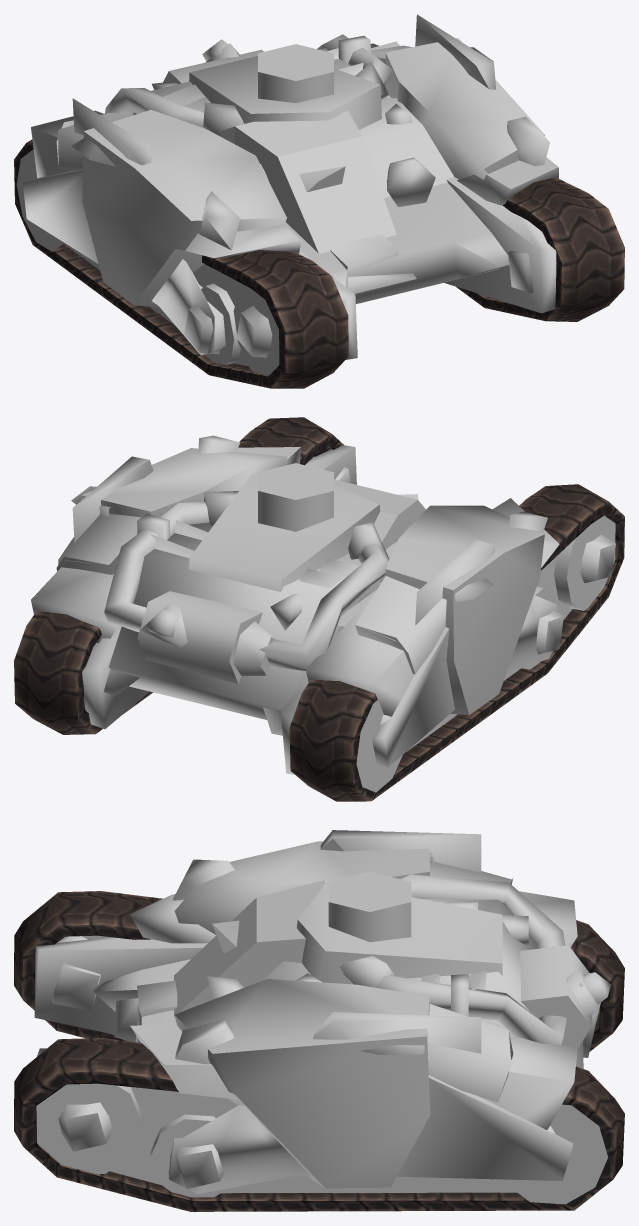
The model's file is Chassis_Tank_Lvl1.3.fbx.
The picture shows the model from 3 angles, top to bottom: view 1: azimuth 30°, elevation 25°; view 2: azimuth 150°, elevation 25°; view 3: azimuth 270°, elevation 25°; orthographic projection. The views are drawn at different scales.
Visible parts, largest first — view 1: Body_Geom, Tracks_R_Geom, Tracks_L_Geom, Wheel_R_1_Geom, Wheel_R_2_Geom, Wheel_R_3_Geom; view 2: Body_Geom, Tracks_R_Geom, Tracks_L_Geom, Wheel_R_1_Geom, Wheel_R_3_Geom; view 3: Body_Geom, Tracks_L_Geom, Tracks_R_Geom, Wheel_L_1_Geom, Wheel_L_3_Geom, Wheel_L_2_Geom.
Boxes of the visible parts, x1=… form: Body_Geom: x1=22, y1=14, x2=558, y2=366; Tracks_R_Geom: x1=14, y1=139, x2=348, y2=388; Tracks_L_Geom: x1=456, y1=177, x2=624, y2=321; Wheel_R_1_Geom: x1=233, y1=285, x2=279, y2=375; Wheel_R_2_Geom: x1=201, y1=283, x2=240, y2=364; Wheel_R_3_Geom: x1=16, y1=149, x2=63, y2=251; Body_Geom: x1=31, y1=435, x2=615, y2=774; Tracks_R_Geom: x1=289, y1=484, x2=624, y2=801; Tracks_L_Geom: x1=14, y1=417, x2=343, y2=734; Wheel_R_1_Geom: x1=554, y1=516, x2=615, y2=610; Wheel_R_3_Geom: x1=356, y1=699, x2=402, y2=792; Body_Geom: x1=34, y1=830, x2=610, y2=1194; Tracks_L_Geom: x1=14, y1=1038, x2=624, y2=1211; Tracks_R_Geom: x1=14, y1=891, x2=624, y2=1051; Wheel_L_1_Geom: x1=36, y1=1083, x2=143, y2=1174; Wheel_L_3_Geom: x1=502, y1=1104, x2=608, y2=1204; Wheel_L_2_Geom: x1=150, y1=1114, x2=228, y2=1197.
Size of the model in its own units: 387 by 200 by 465.
